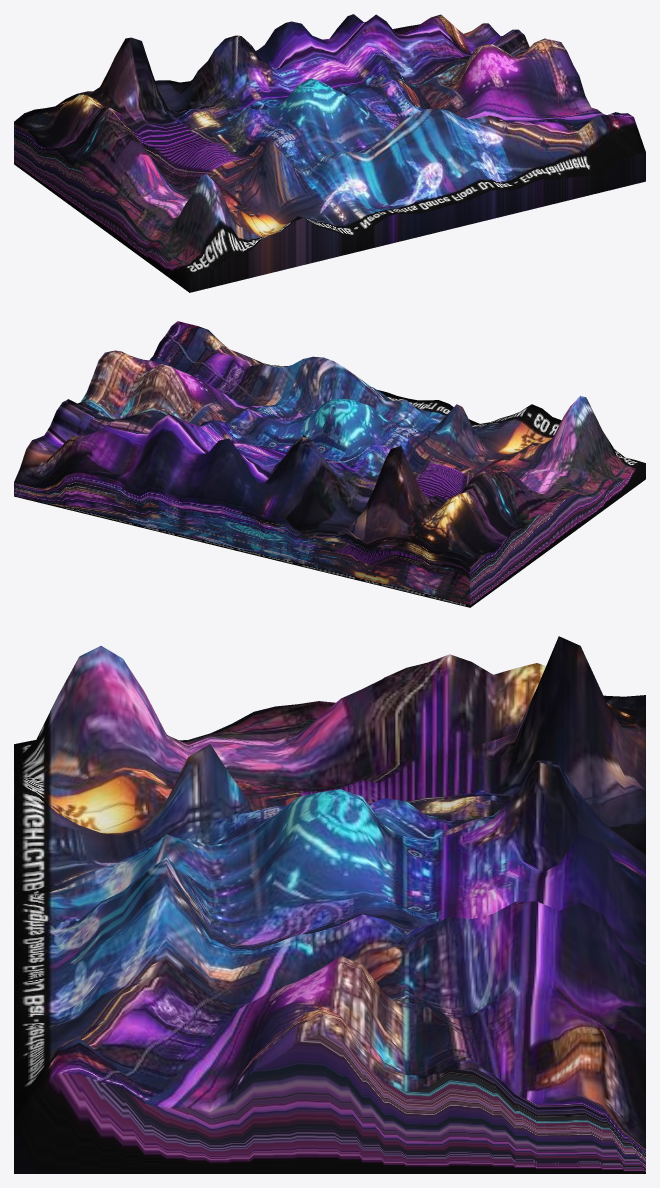
File: SPECIAL_INT_03_Nightclub.glb
3 views of the same model, one above another, from view 1: azimuth 30°, elevation 25°; view 2: azimuth 150°, elevation 25°; view 3: azimuth 270°, elevation 25° (orthographic). The views are drawn at different scales.
Visible parts, largest first — view 1: SPECIAL_INT_03_Nightclub; view 2: SPECIAL_INT_03_Nightclub; view 3: SPECIAL_INT_03_Nightclub.
Part boxes in pixels (x1,y1,x2,y2): SPECIAL_INT_03_Nightclub: (14, 14, 645, 292); SPECIAL_INT_03_Nightclub: (14, 321, 645, 607); SPECIAL_INT_03_Nightclub: (14, 636, 645, 1173).
Bounding box in the file's own units: 2 × 0.51 × 1.33.
1 material, 1 textured.
